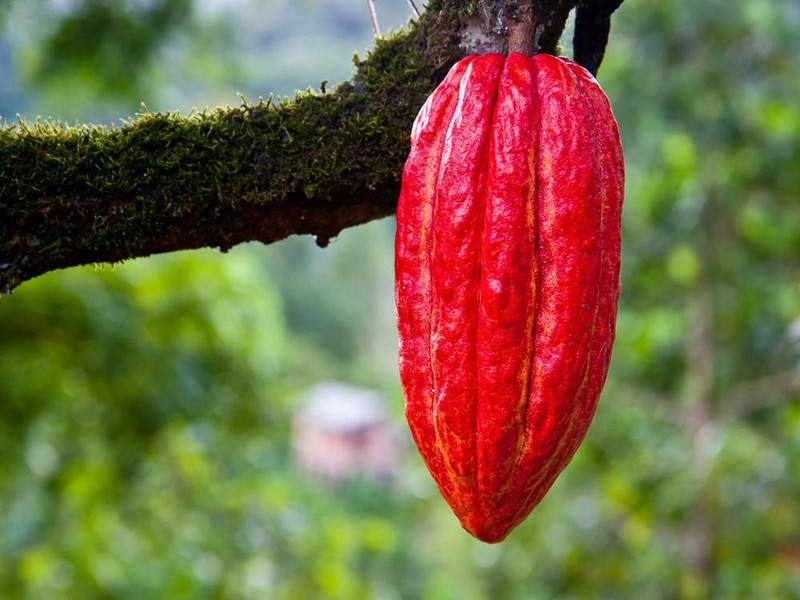Cacaopod: (389, 55, 625, 545)
